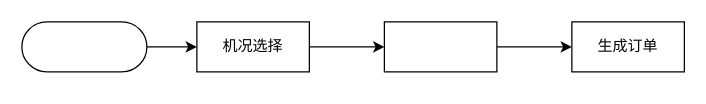
The diagram is 706 pixels wide and 104 high, and some of its shapes have lost their labels. Each missing label, with the centre of its shape:
"点击首页机型" goes at point (84, 46).
"系统估价" goes at point (440, 46).
